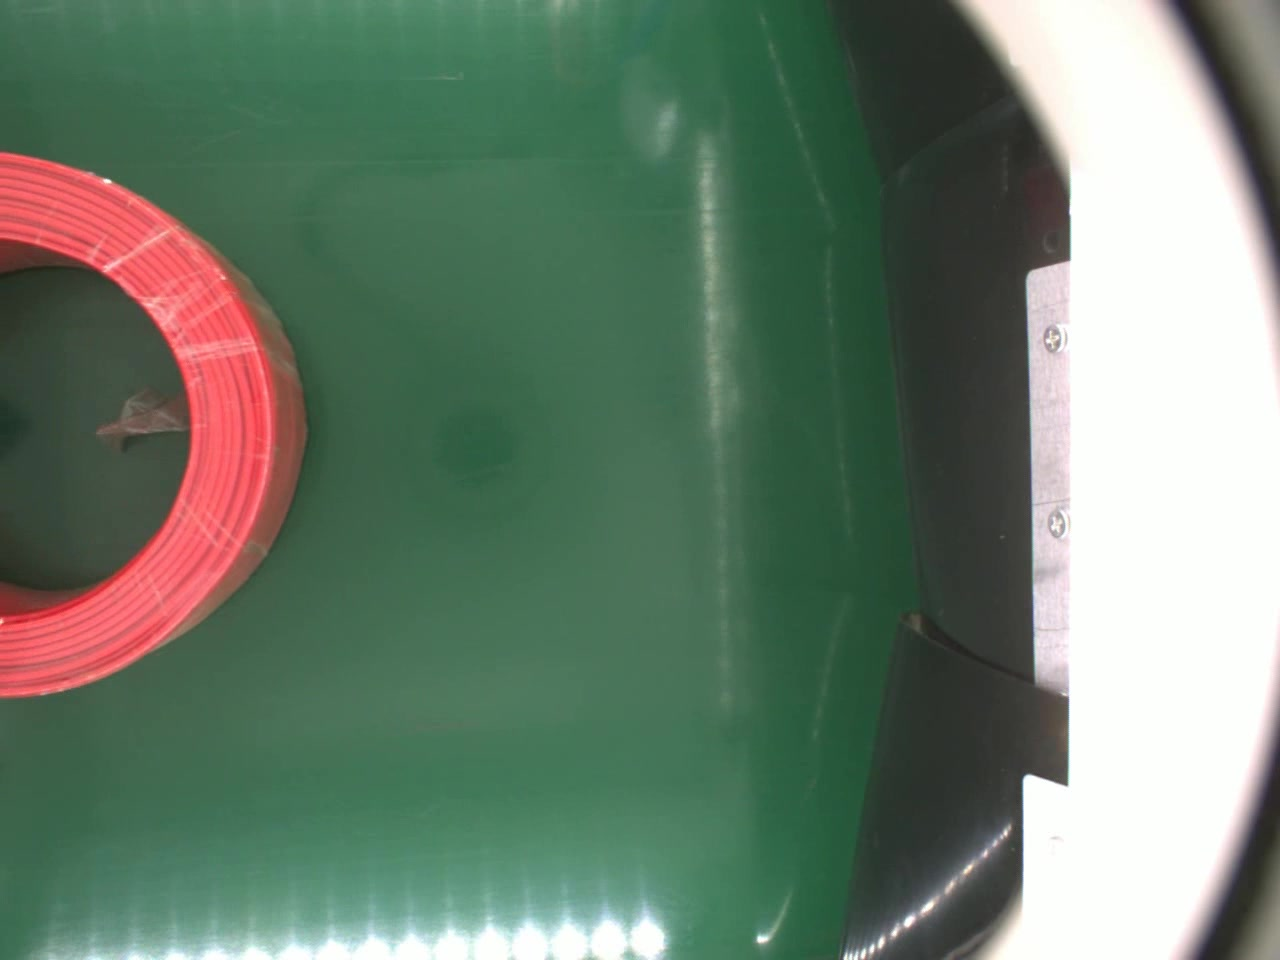red: (0, 151, 306, 700)
